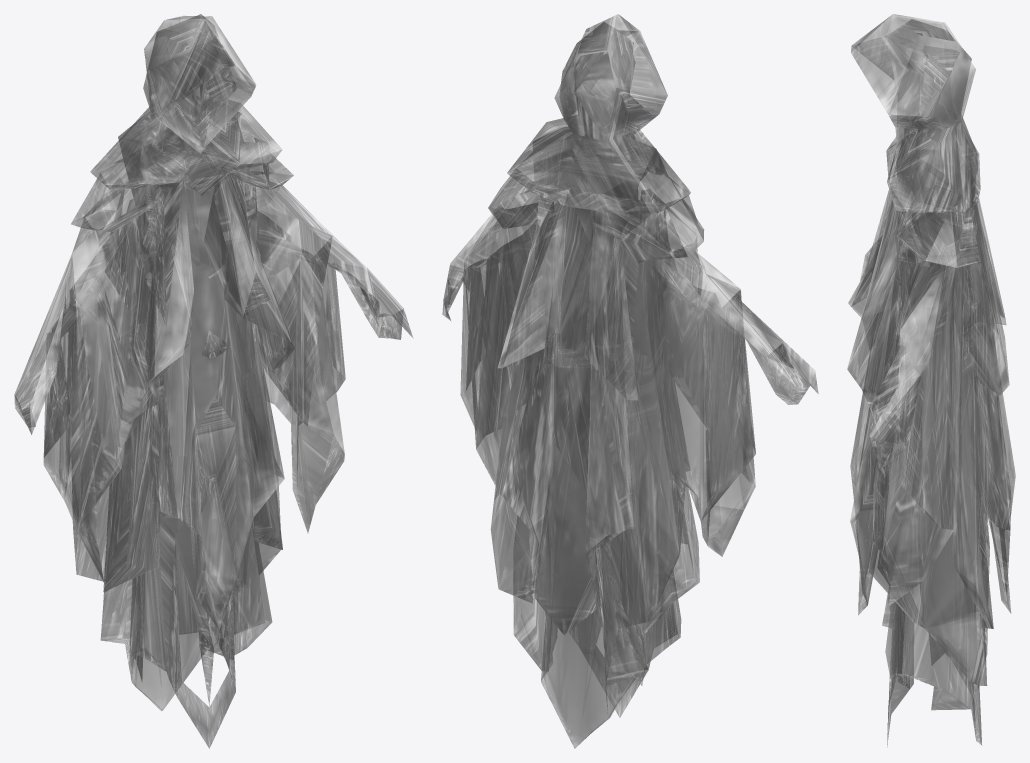
Rendered from wall_silhouette.glb.
The picture shows the model from 3 angles, left to right: view 1: azimuth 30°, elevation 25°; view 2: azimuth 150°, elevation 25°; view 3: azimuth 270°, elevation 25°; orthographic projection. The views are drawn at different scales.
Visible parts, largest first — view 1: wall_silhouette; view 2: wall_silhouette; view 3: wall_silhouette.
Boxes of the visible parts, box(x1,y1,x2,y2) form: wall_silhouette: box(14, 14, 413, 748); wall_silhouette: box(442, 14, 818, 748); wall_silhouette: box(847, 14, 1015, 746).
Bounding box in the file's own units: 1.21 × 2.19 × 0.457.
1 material, 1 textured.
